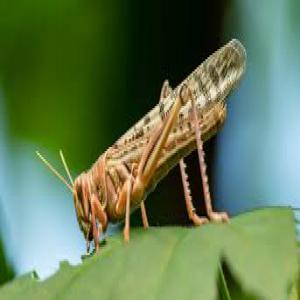locust: (77, 38, 255, 258)
